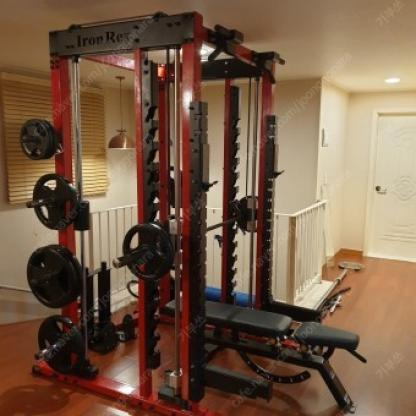smith machine: (31, 10, 287, 416)
